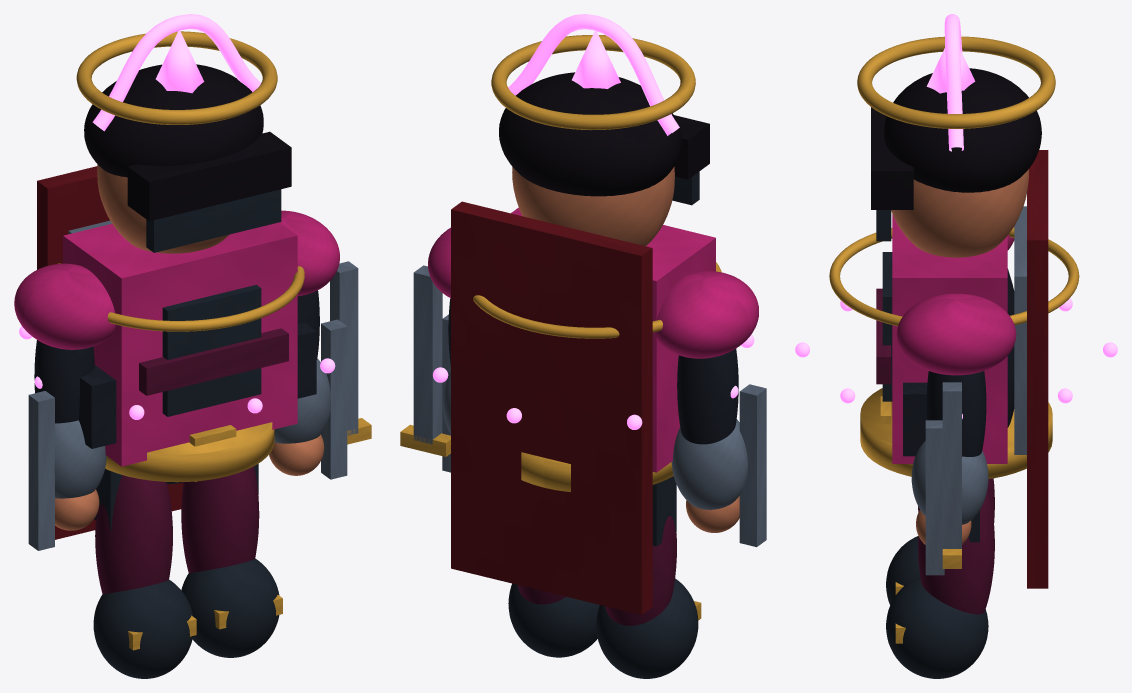
Rendered from Transcendence.glb.
3 renders of one model, left to right at view 1: azimuth 30°, elevation 25°; view 2: azimuth 150°, elevation 25°; view 3: azimuth 270°, elevation 25°, orthographic. The views are drawn at different scales.
Visible parts, largest first — view 1: ChestPlate, Hair, HairFringe, Leg, Boot, Boot.001, ChestInset, Leg.001, Shoulder, CrownRing, Cape, WaistGuard (+20 smaller); view 2: Cape, Hair, Shoulder, ChestPlate, Head, CrownRing, Boot, Arm, Dagger, Gauntlet, Boot.001, DualDagger (+12 smaller); view 3: Hair, ChestPlate, Cape, Shoulder.001, Head, Boot.001, CrownRing, Leg.001, Dagger, WaistGuard, BackArmor, Arm.001 (+12 smaller).
Part boxes in pixels (x1,y1,x2,y2): ChestPlate: [63, 222, 297, 466]; Hair: [84, 64, 263, 177]; HairFringe: [127, 131, 291, 221]; Leg: [95, 475, 172, 593]; Boot: [93, 579, 192, 678]; Boot.001: [181, 558, 279, 657]; ChestInset: [162, 284, 261, 416]; Leg.001: [181, 466, 259, 572]; Shoulder: [14, 263, 115, 349]; CrownRing: [76, 31, 277, 124]; Cape: [37, 166, 183, 539]; WaistGuard: [105, 422, 274, 482]; Cape: [451, 201, 652, 614]; Hair: [499, 72, 681, 196]; Shoulder: [654, 271, 758, 358]; ChestPlate: [511, 207, 715, 472]; Head: [512, 166, 674, 246]; CrownRing: [491, 35, 695, 130]; Boot: [596, 578, 698, 678]; Arm: [677, 348, 738, 444]; Dagger: [413, 265, 442, 444]; Gauntlet: [671, 419, 747, 509]; Boot.001: [508, 583, 599, 657]; DualDagger: [739, 384, 766, 547]; Hair: [884, 68, 1041, 192]; ChestPlate: [892, 214, 1007, 463]; Cape: [1027, 150, 1048, 588]; Shoulder.001: [896, 293, 1016, 375]; Head: [891, 169, 1028, 257]; Boot.001: [886, 577, 988, 678]; CrownRing: [857, 36, 1055, 128]; Leg.001: [918, 488, 994, 614]; Dagger: [942, 382, 961, 548]; WaistGuard: [860, 388, 1052, 478]; BackArmor: [1014, 206, 1026, 454]; Arm.001: [926, 371, 986, 456].
Bounding box in the file's own units: 1.82 × 3.27 × 1.51.
Materials: 12 (9 with a texture image).
